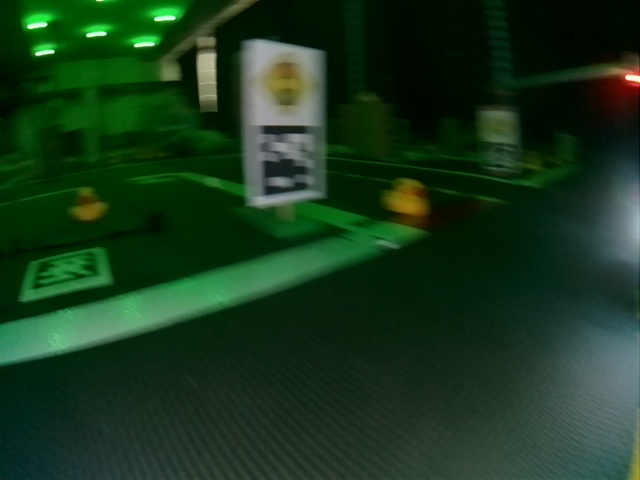Duckie: (382, 180, 429, 216), (66, 187, 107, 224)
QR code: (252, 124, 323, 197), (18, 250, 114, 303), (483, 142, 519, 173)
Signal sign: (253, 51, 319, 118)
